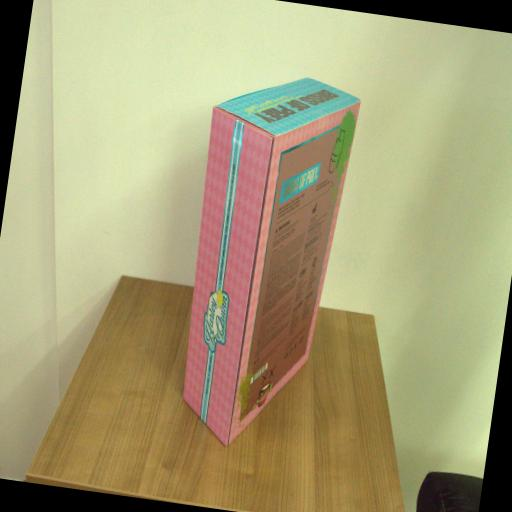Harley: (166, 61, 364, 457)
